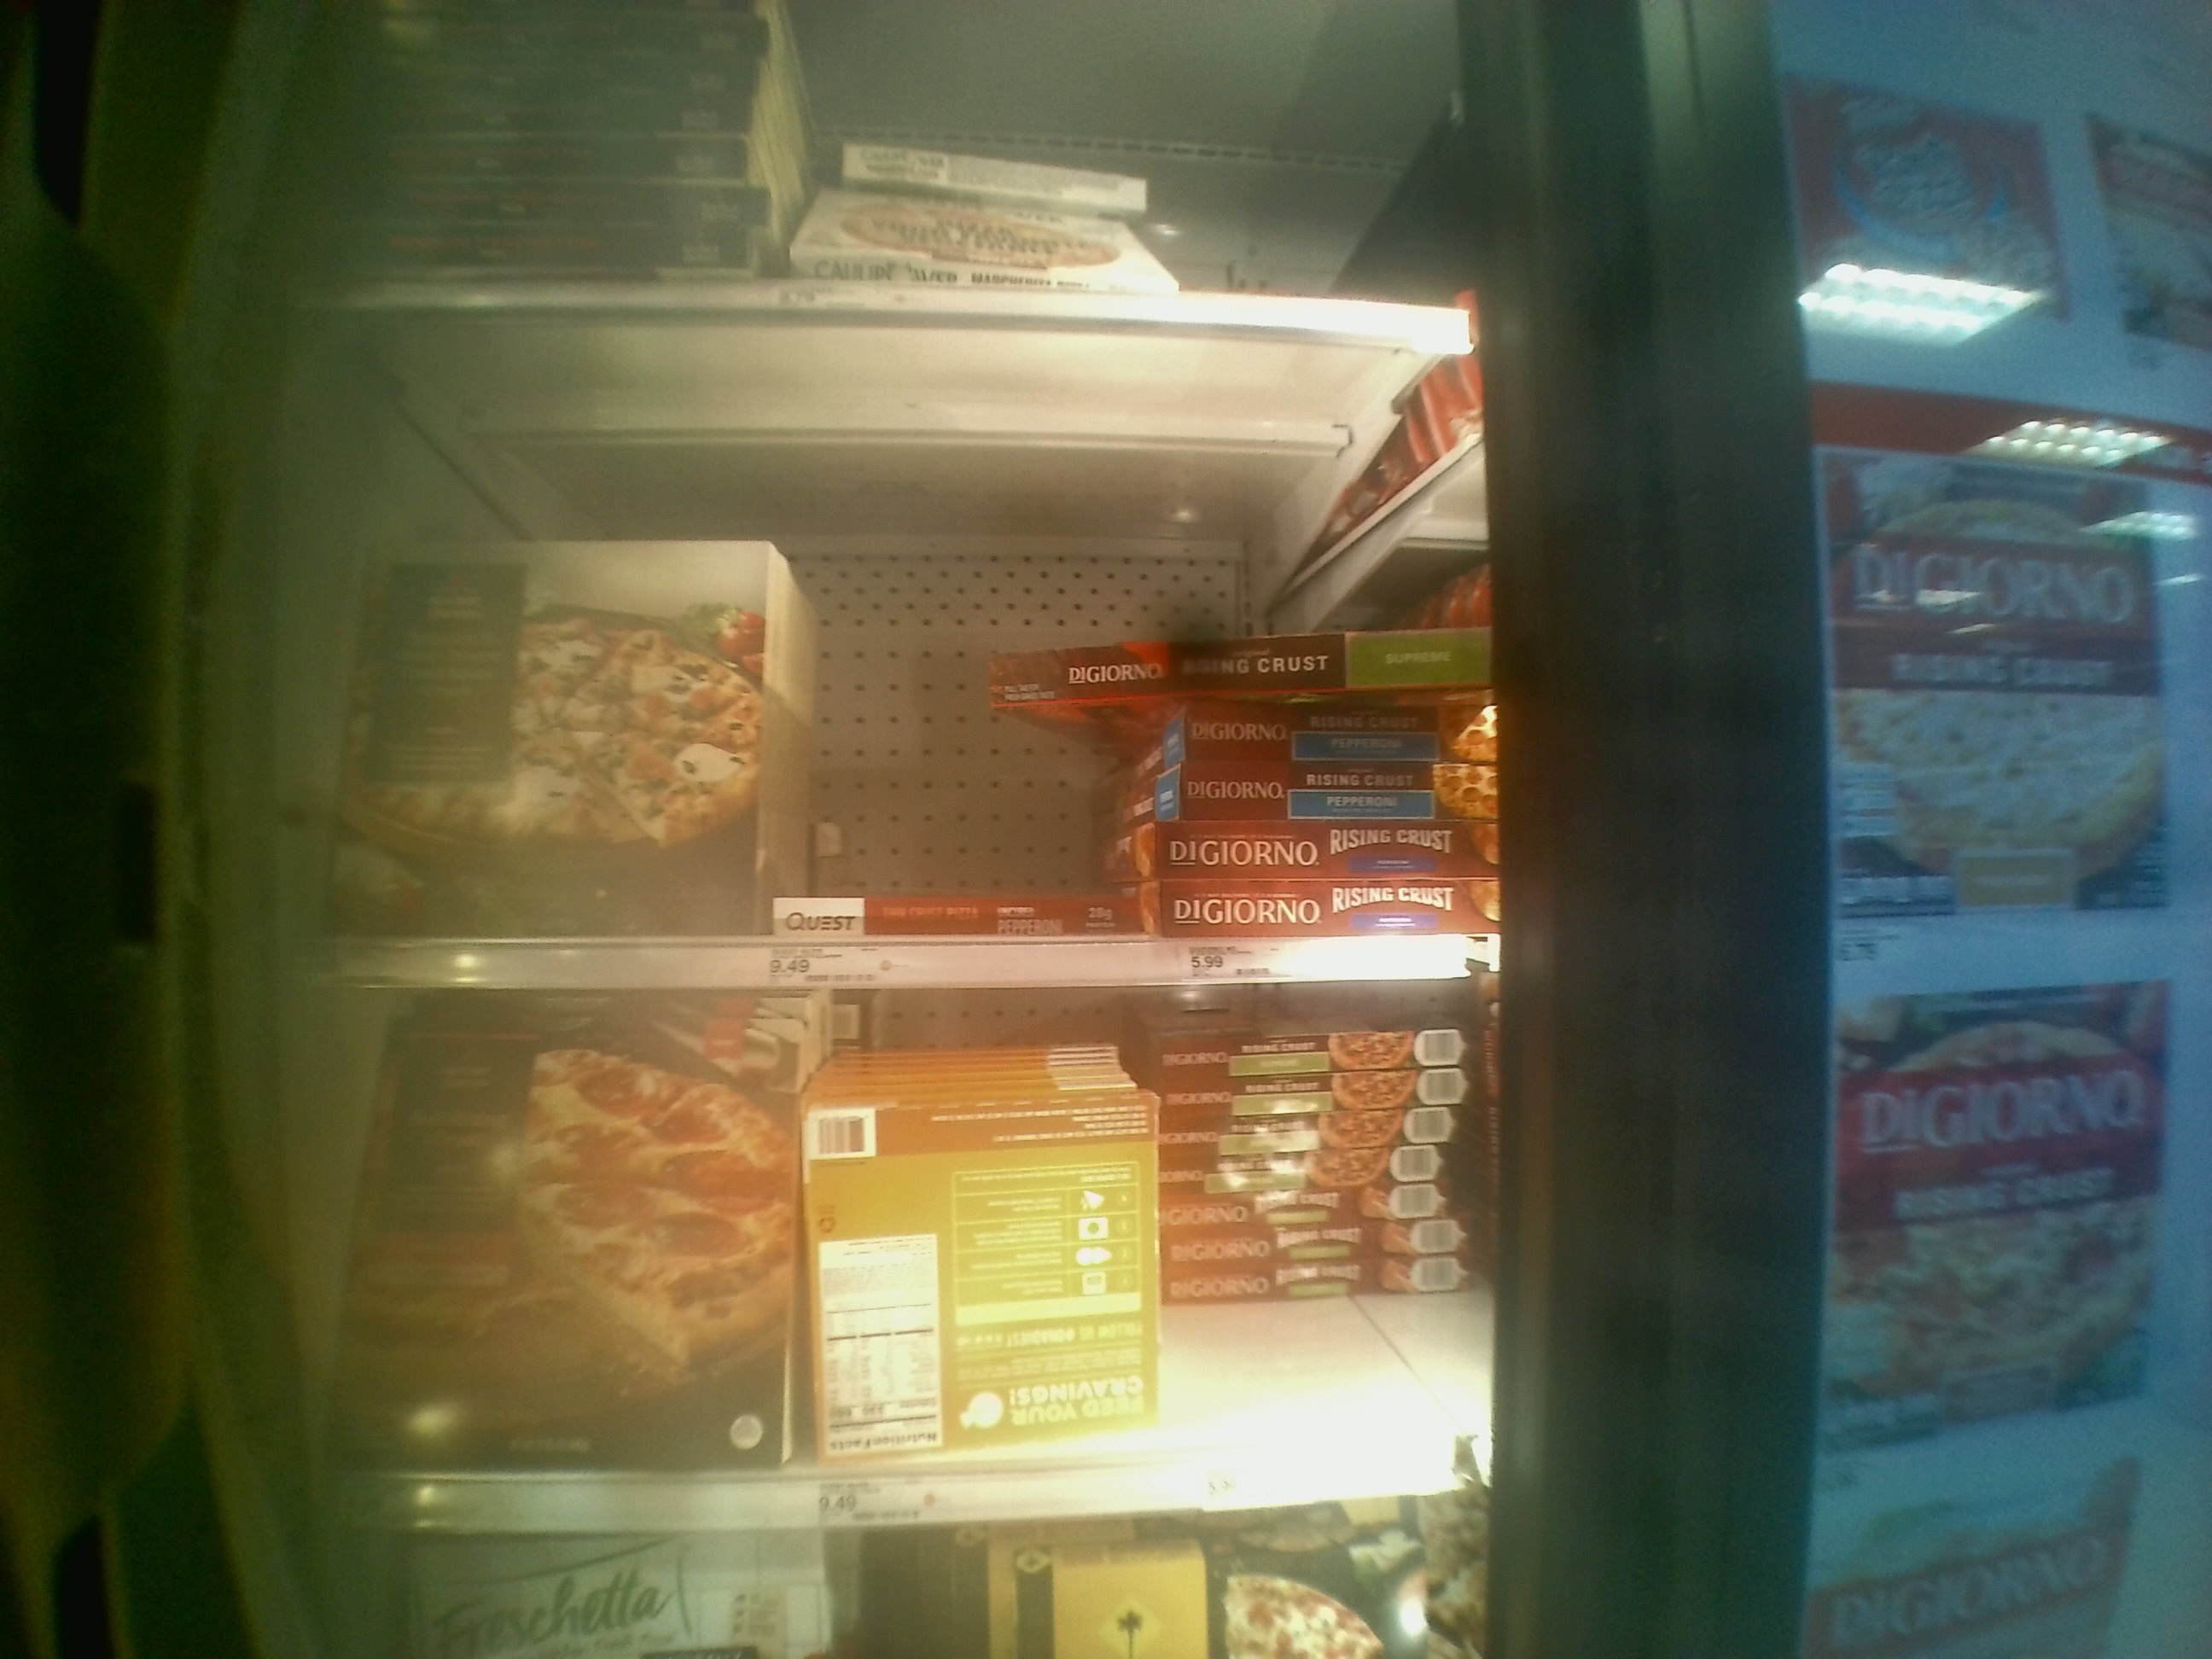pizza: (340, 1023, 801, 1452), (361, 544, 766, 934), (798, 1110, 1158, 1459), (995, 638, 1461, 694), (798, 214, 1155, 281), (280, 228, 768, 274), (307, 14, 761, 59), (848, 148, 1155, 211), (286, 139, 742, 179), (291, 96, 752, 134), (1165, 884, 1491, 932), (1160, 828, 1480, 873), (773, 894, 1129, 934), (1176, 769, 1484, 812), (1184, 709, 1472, 755), (291, 190, 749, 216), (329, 68, 758, 96), (1148, 1154, 1456, 1190), (1170, 1028, 1475, 1065), (1144, 1114, 1475, 1145), (1158, 1230, 1465, 1260), (1165, 1075, 1475, 1103), (1155, 1270, 1472, 1295), (1160, 1199, 1456, 1220)
